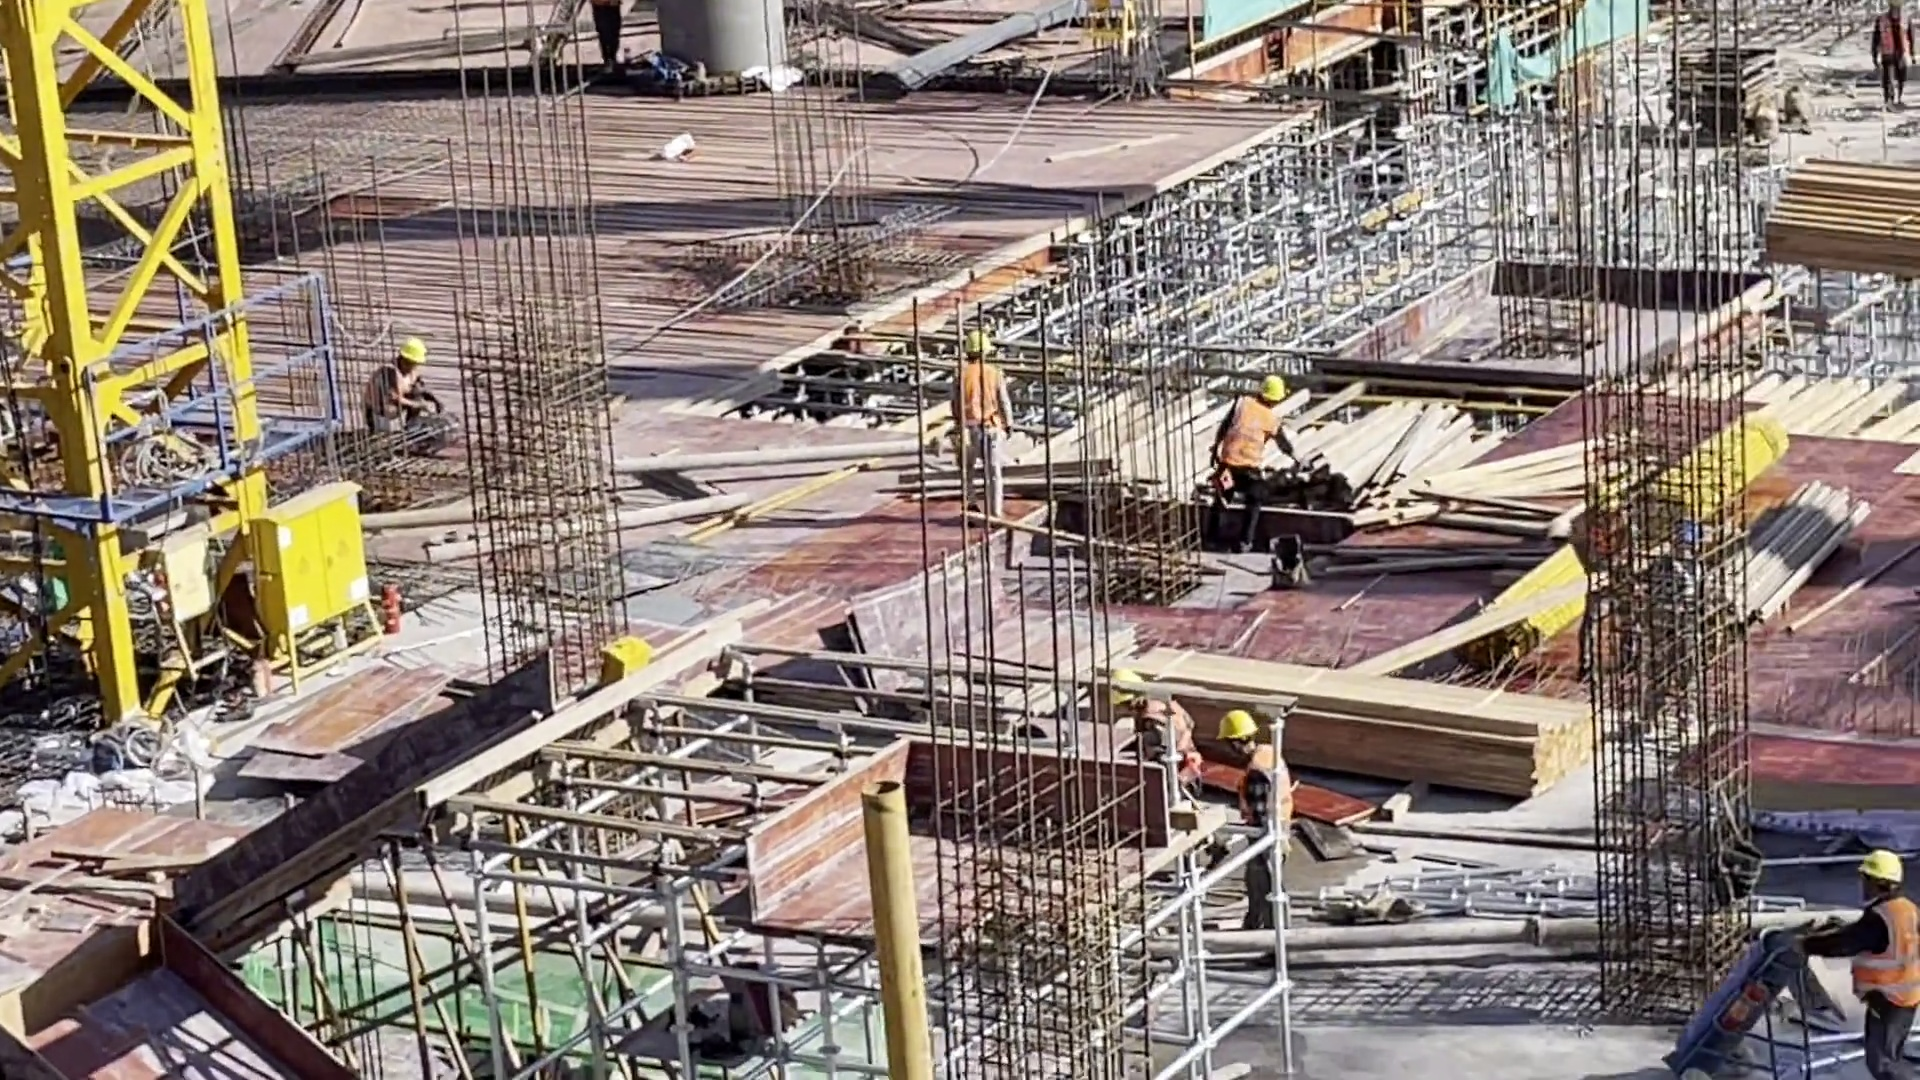ebox: (256, 481, 386, 699), (144, 518, 233, 684), (1081, 1, 1142, 83), (601, 636, 657, 688)
helmet: (1860, 850, 1903, 886), (1220, 710, 1258, 747), (394, 340, 425, 372), (962, 333, 992, 360), (1260, 375, 1288, 400)
person: (1805, 848, 1920, 1080), (1216, 706, 1295, 936), (1214, 371, 1290, 576), (1106, 670, 1201, 830), (950, 330, 1013, 519), (365, 337, 444, 438), (1873, 1, 1920, 106), (576, 1, 624, 99)
rebar: (878, 1, 1076, 108)
vest: (1850, 900, 1920, 1016), (1226, 398, 1274, 477), (956, 363, 1001, 440)
wood: (1295, 654, 1594, 815), (1320, 394, 1589, 533), (1768, 152, 1920, 279)
